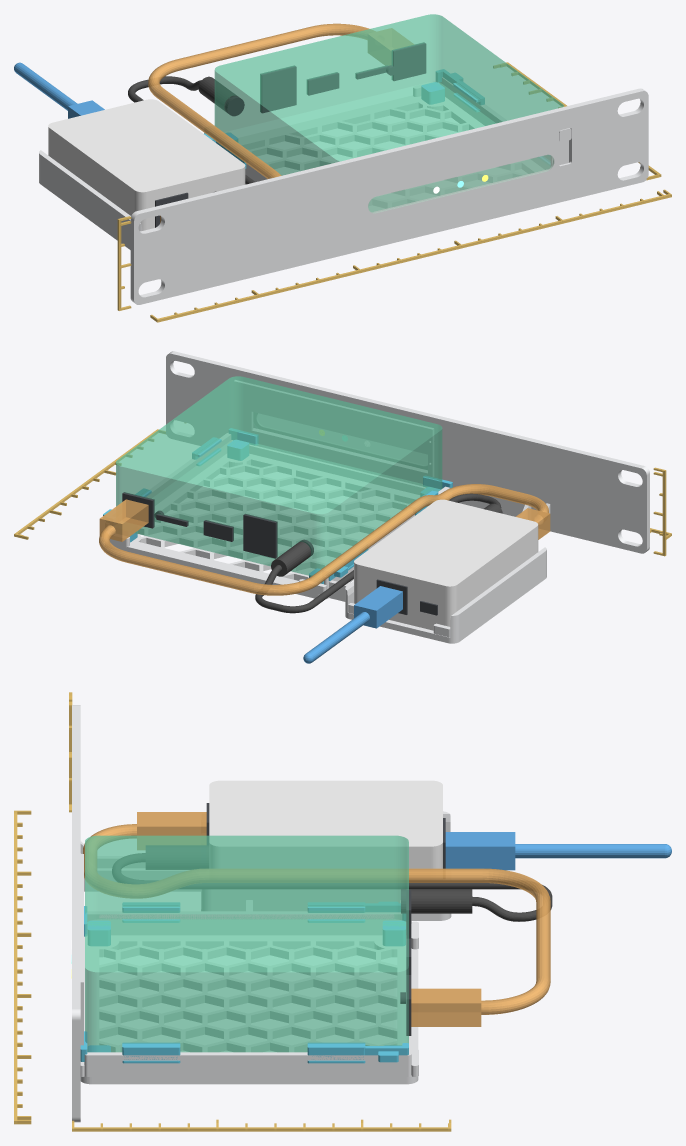
Rendered from home-assistant-green-rack-balanced.glb.
3 renders of one model, top to bottom at view 1: azimuth 30°, elevation 25°; view 2: azimuth 150°, elevation 25°; view 3: azimuth 270°, elevation 25°, orthographic. The views are drawn at different scales.
Visible parts, largest first — view 1: White rack mount, Home Assistant Green, TP-Link TL-PD30G-M2, Green tray — standard, Ethernet cable — bend-radius warning, 10 mm dimension rulers, Home Assistant Green connector faces, LED window insert, Green retention — segmented rails + rear latch, DC cable, Incoming PoE cable, LED shutter retainer; view 2: Home Assistant Green, White rack mount, Green tray — standard, TP-Link TL-PD30G-M2, Ethernet cable — bend-radius warning, LED shutter retainer, Home Assistant Green connector faces, LED window insert, Incoming PoE cable, DC cable, Green retention — segmented rails + rear latch, 10 mm dimension rulers (+1 smaller); view 3: Home Assistant Green, Green tray — standard, TP-Link TL-PD30G-M2, Ethernet cable — bend-radius warning, White rack mount, Green retention — segmented rails + rear latch, DC cable, Incoming PoE cable, 10 mm dimension rulers, Home Assistant Green connector faces, LED shutter retainer.
Boxes of the visible parts, bbox=[...] form: White rack mount: bbox=[39, 88, 648, 304]; Home Assistant Green: bbox=[214, 14, 563, 211]; TP-Link TL-PD30G-M2: bbox=[48, 99, 245, 230]; Green tray — standard: bbox=[225, 77, 506, 184]; Ethernet cable — bend-radius warning: bbox=[148, 23, 413, 223]; 10 mm dimension rulers: bbox=[117, 62, 671, 322]; Home Assistant Green connector faces: bbox=[225, 42, 426, 116]; LED window insert: bbox=[368, 154, 554, 213]; Green retention — segmented rails + rear latch: bbox=[204, 69, 549, 168]; DC cable: bbox=[128, 76, 255, 192]; Incoming PoE cable: bbox=[14, 62, 104, 118]; LED shutter retainer: bbox=[373, 128, 570, 212]; Home Assistant Green: bbox=[116, 376, 442, 576]; White rack mount: bbox=[166, 351, 649, 643]; Green tray — standard: bbox=[109, 433, 449, 599]; TP-Link TL-PD30G-M2: bbox=[354, 499, 538, 630]; Ethernet cable — bend-radius warning: bbox=[99, 484, 550, 595]; LED shutter retainer: bbox=[234, 380, 433, 476]; Home Assistant Green connector faces: bbox=[122, 492, 313, 558]; LED window insert: bbox=[254, 413, 427, 469]; Incoming PoE cable: bbox=[303, 586, 402, 663]; DC cable: bbox=[255, 493, 502, 613]; Green retention — segmented rails + rear latch: bbox=[103, 428, 452, 583]; 10 mm dimension rulers: bbox=[14, 429, 671, 556]; Home Assistant Green: bbox=[85, 835, 408, 1052]; Green tray — standard: bbox=[80, 911, 418, 1084]; TP-Link TL-PD30G-M2: bbox=[209, 780, 442, 868]; Ethernet cable — bend-radius warning: bbox=[83, 812, 550, 1026]; White rack mount: bbox=[72, 705, 451, 1122]; Green retention — segmented rails + rear latch: bbox=[80, 902, 408, 1063]; DC cable: bbox=[112, 845, 552, 921]; Incoming PoE cable: bbox=[445, 832, 671, 870]; 10 mm dimension rulers: bbox=[14, 692, 451, 1131]; Home Assistant Green connector faces: bbox=[400, 889, 411, 1035]; LED shutter retainer: bbox=[80, 854, 83, 1045].
Size of what is drawn, in the model's own units: 268 by 43 by 227.
